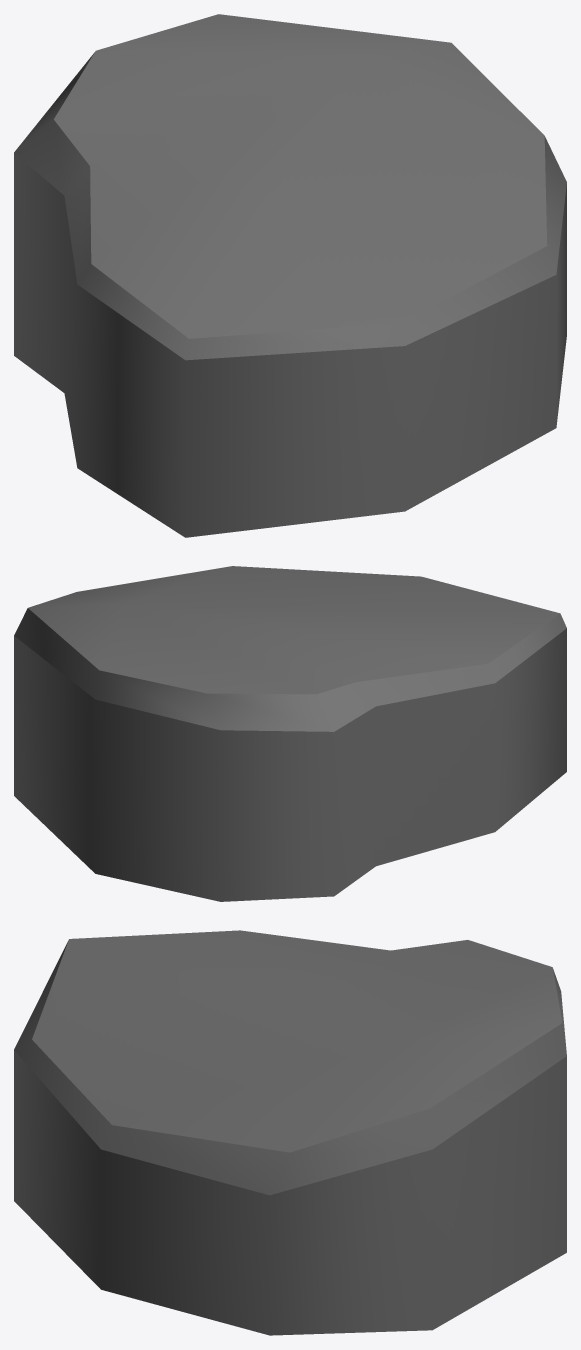
The model's file is Stone_J.fbx.
The picture shows the model from 3 angles, top to bottom: view 1: azimuth 30°, elevation 25°; view 2: azimuth 150°, elevation 25°; view 3: azimuth 270°, elevation 25°; orthographic projection. The views are drawn at different scales.
Parts seen in each view (by area): view 1: Stone_J; view 2: Stone_J; view 3: Stone_J.
Boxes of the visible parts, bbox=[...] form: Stone_J: bbox=[14, 14, 566, 537]; Stone_J: bbox=[14, 566, 566, 901]; Stone_J: bbox=[14, 930, 566, 1335].
Size of the model in its own units: 122 by 59.61 by 128.
